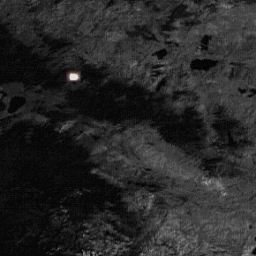Target: (69, 73, 81, 81)
